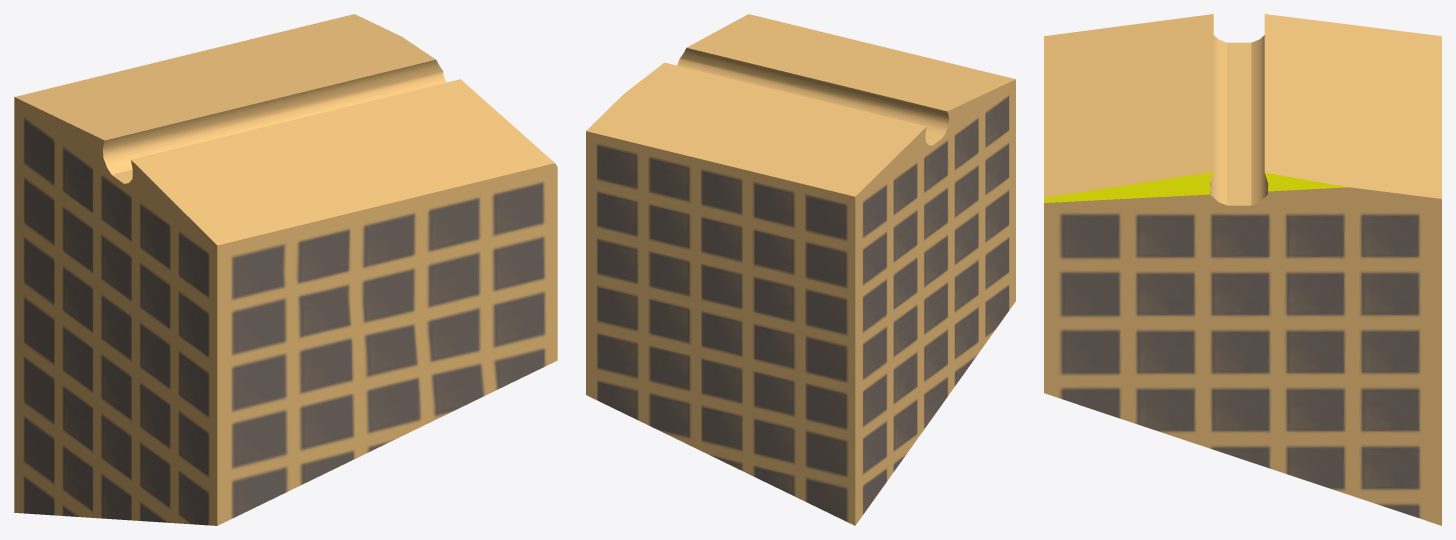
Rendered from ST2Shard2.fbx.
3 renders of one model, left to right at view 1: azimuth 30°, elevation 25°; view 2: azimuth 150°, elevation 25°; view 3: azimuth 270°, elevation 25°, orthographic. The views are drawn at different scales.
Visible parts, largest first — view 1: shard2; view 2: shard2; view 3: shard2.
Part boxes in pixels (x1,y1,x2,y2): shard2: [14, 14, 557, 525]; shard2: [586, 14, 1015, 525]; shard2: [1044, 14, 1441, 525].
Bounding box in the file's own units: 0.0992 × 0.1222 × 0.1025.
2 materials, 1 textured.
